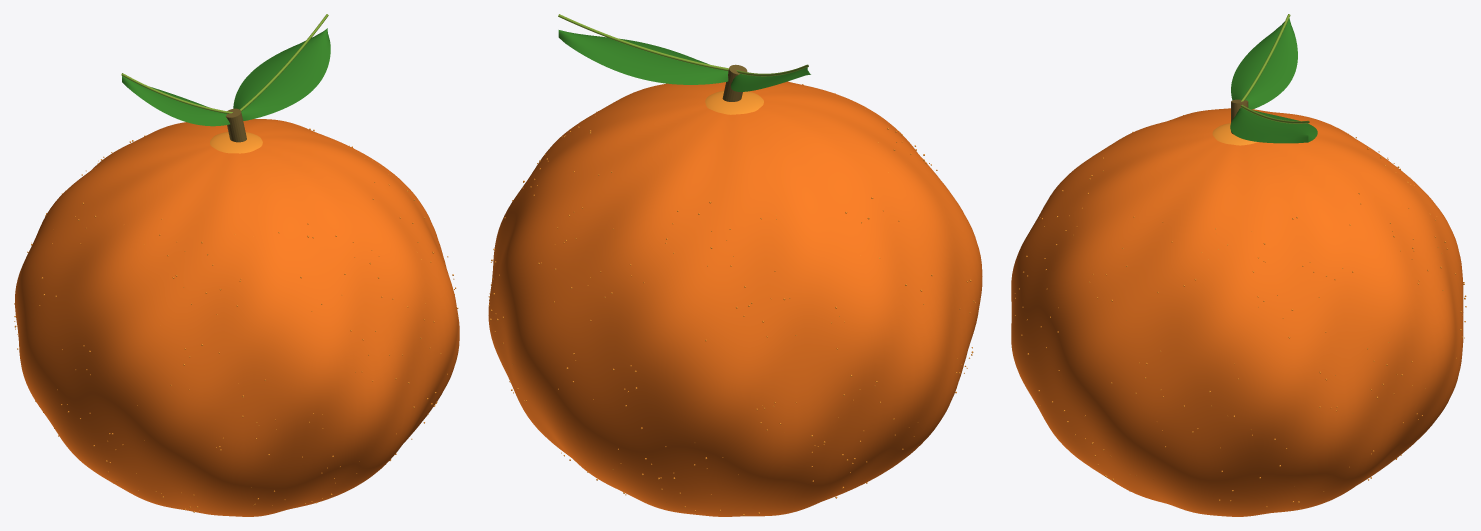
The model's file is Naranja.glb.
3 renders of one model, left to right at view 1: azimuth 30°, elevation 25°; view 2: azimuth 150°, elevation 25°; view 3: azimuth 270°, elevation 25°, orthographic. The views are drawn at different scales.
Visible parts, largest first — view 1: Naranja_Cuerpo, Hoja_grande, Hoja_pequena, Cicatriz_superior, Tallo_naranja; view 2: Naranja_Cuerpo, Hoja_grande, Cicatriz_superior, Hoja_pequena, Nervadura_hoja_1; view 3: Naranja_Cuerpo, Hoja_pequena, Hoja_grande.
Boxes of the visible parts, <box> form: Naranja_Cuerpo: <box>15,119,459,516</box>; Hoja_grande: <box>233,28,330,120</box>; Hoja_pequena: <box>122,76,229,126</box>; Cicatriz_superior: <box>210,132,262,153</box>; Tallo_naranja: <box>225,108,246,142</box>; Naranja_Cuerpo: <box>488,81,982,516</box>; Hoja_grande: <box>558,30,728,84</box>; Cicatriz_superior: <box>705,90,763,114</box>; Hoja_pequena: <box>731,67,810,91</box>; Nervadura_hoja_1: <box>558,14,728,70</box>; Naranja_Cuerpo: <box>1011,108,1463,516</box>; Hoja_pequena: <box>1231,18,1297,109</box>; Hoja_grande: <box>1230,107,1317,143</box>.
Size of the model in its own units: 2.03 by 2.12 by 2.02.
